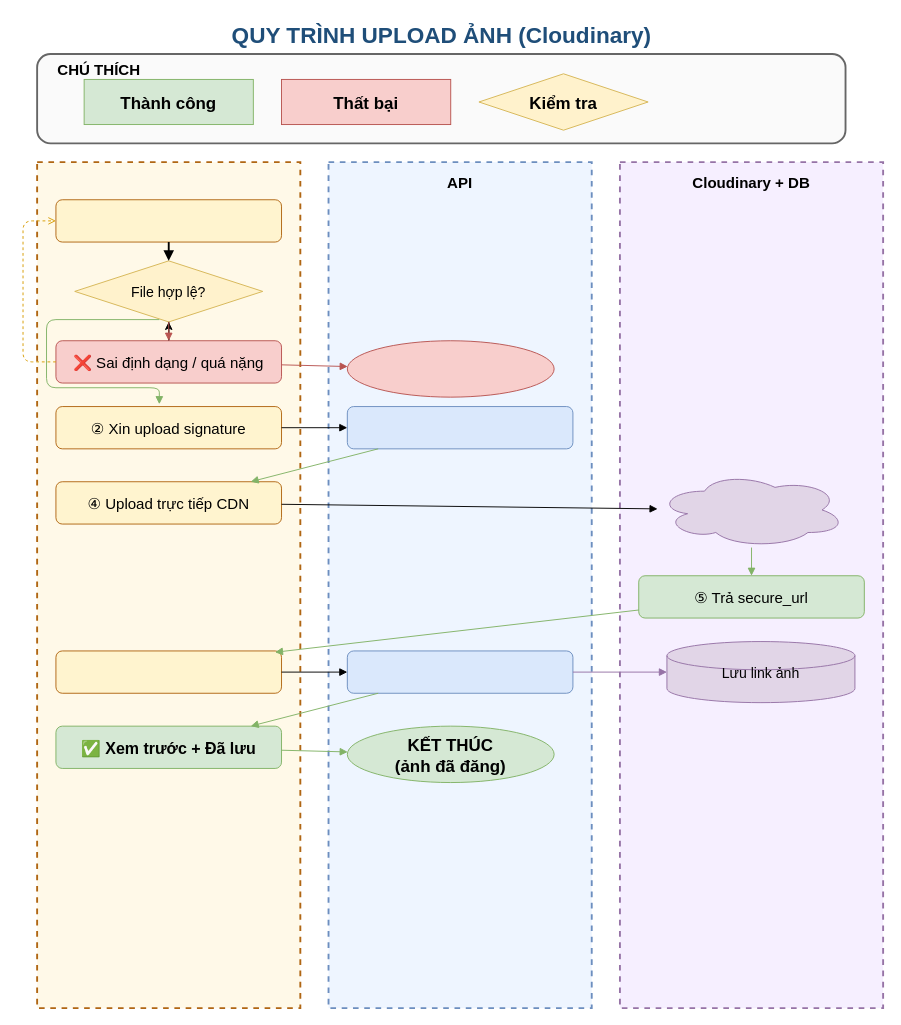
Image size: 901x1025. Some labels were removed from this diagram. The box of each missing label's shape, as (x1, y1, x2, y2) in pixels:
ADMIN UI: (36, 161, 301, 1009)
Cloudinary: (657, 471, 846, 548)
KẾT THÚC (chưa đăng được): (346, 340, 554, 397)
① Chọn ảnh: (55, 199, 282, 242)
③ Cấp signature (JWT): (346, 406, 573, 449)
⑥ Lưu bài + URL ảnh: (55, 650, 282, 693)
⑦ Ghi PostgreSQL: (346, 650, 573, 693)
